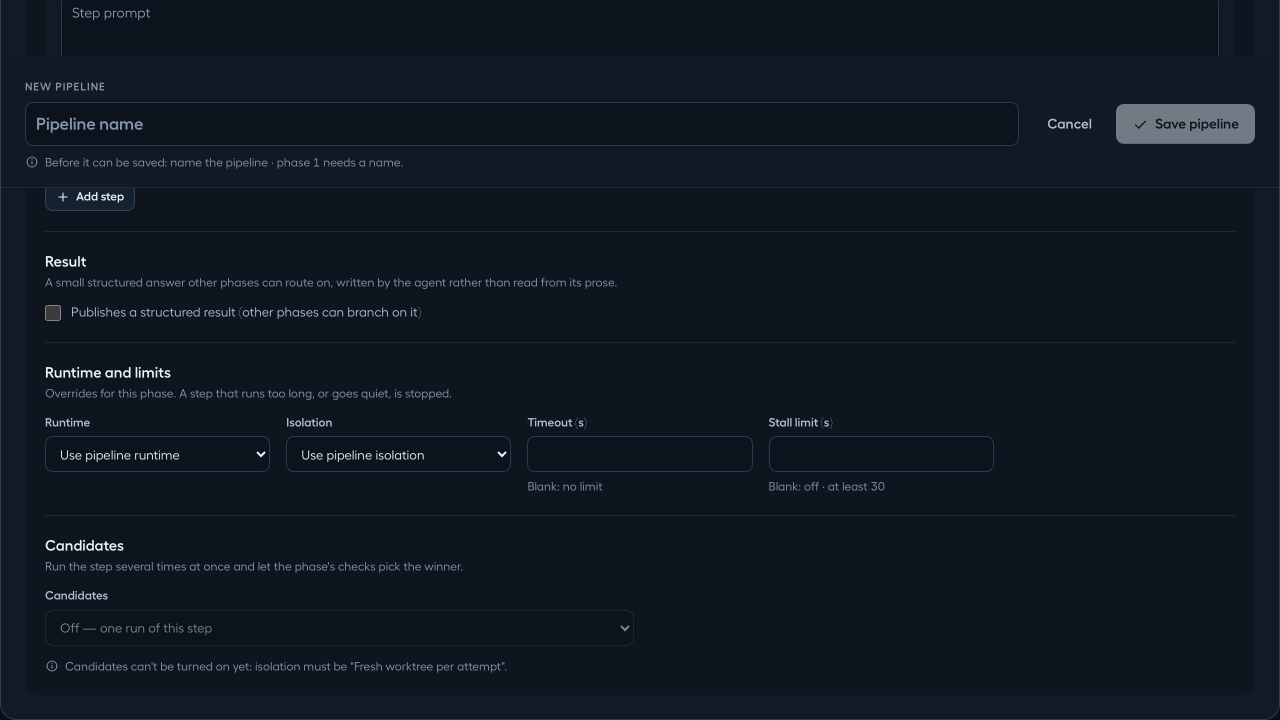
Test case: PipelineForm › refuses candidates until the phase has one step and attempt-scoped isolation
(page scrolled)
Check: the dropdown named "Candidates (phase 1)" is disabled, box x1=45 y1=610 x2=634 y2=646
Check: the text "isolation must be \"Fresh worktree per attempt\"" is shown, box x1=255 y1=660 x2=504 y2=672
The wrong isolation is still the wrong isolation.
Select "Shared worktree per instance" in the dropdown named "Isolation (phase 1)" at (399, 454), box x1=286 y1=436 x2=511 y2=472
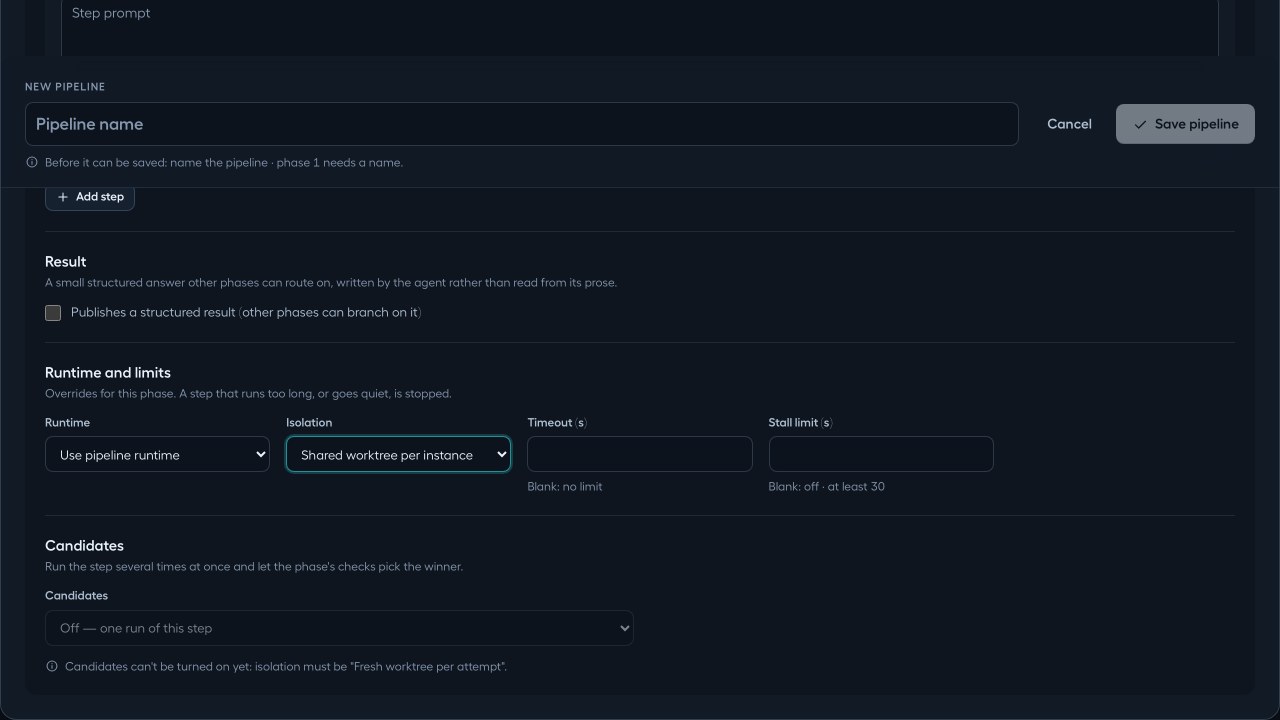
Check: the dropdown named "Candidates (phase 1)" is disabled, box x1=45 y1=610 x2=634 y2=646
Select "Fresh worktree per attempt" in the dropdown named "Isolation (phase 1)" at (399, 454), box x1=286 y1=436 x2=511 y2=472
(page scrolled)
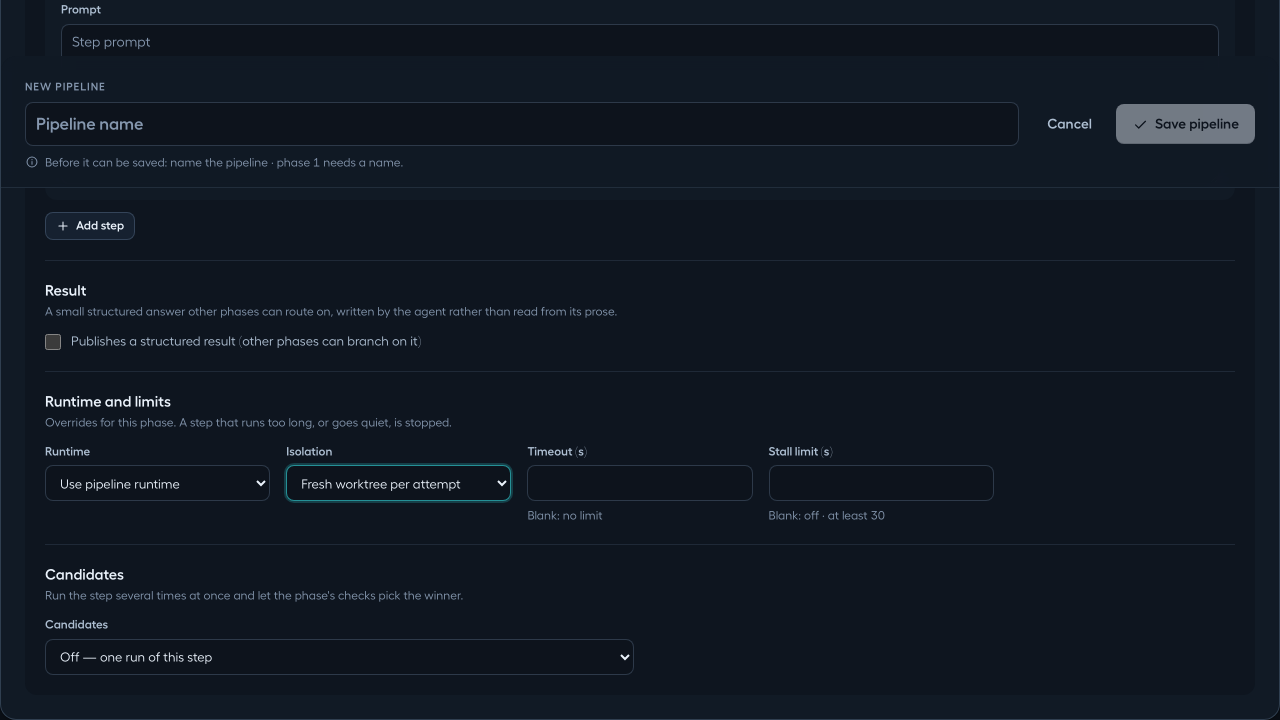
Check: the dropdown named "Candidates (phase 1)" is enabled, box x1=45 y1=639 x2=634 y2=675
A second step takes it away again, and says which requirement broke.
Click the button "Add step".
click(90, 226)  # box x1=45 y1=212 x2=135 y2=240
(page scrolled)
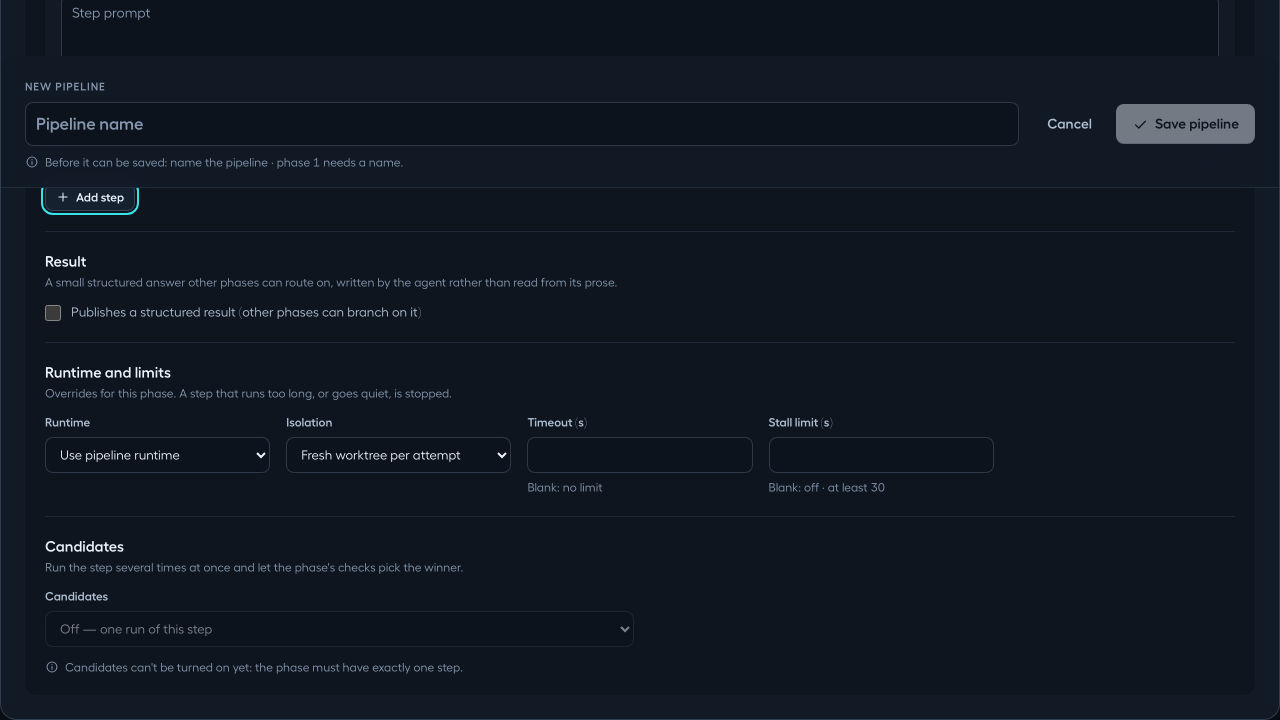
Check: the dropdown named "Candidates (phase 1)" is disabled, box x1=45 y1=611 x2=634 y2=647
Check: the text "exactly one step" is shown, box x1=255 y1=661 x2=460 y2=673
